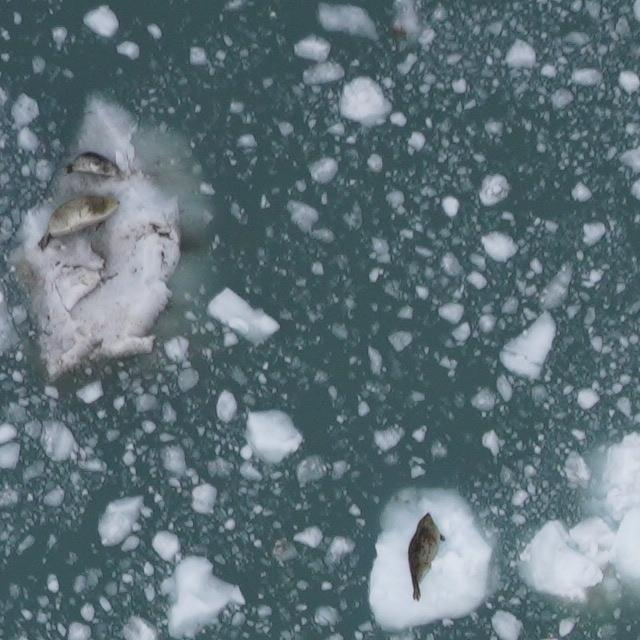seal: (33, 191, 126, 254), (404, 509, 450, 606), (62, 149, 127, 182)
